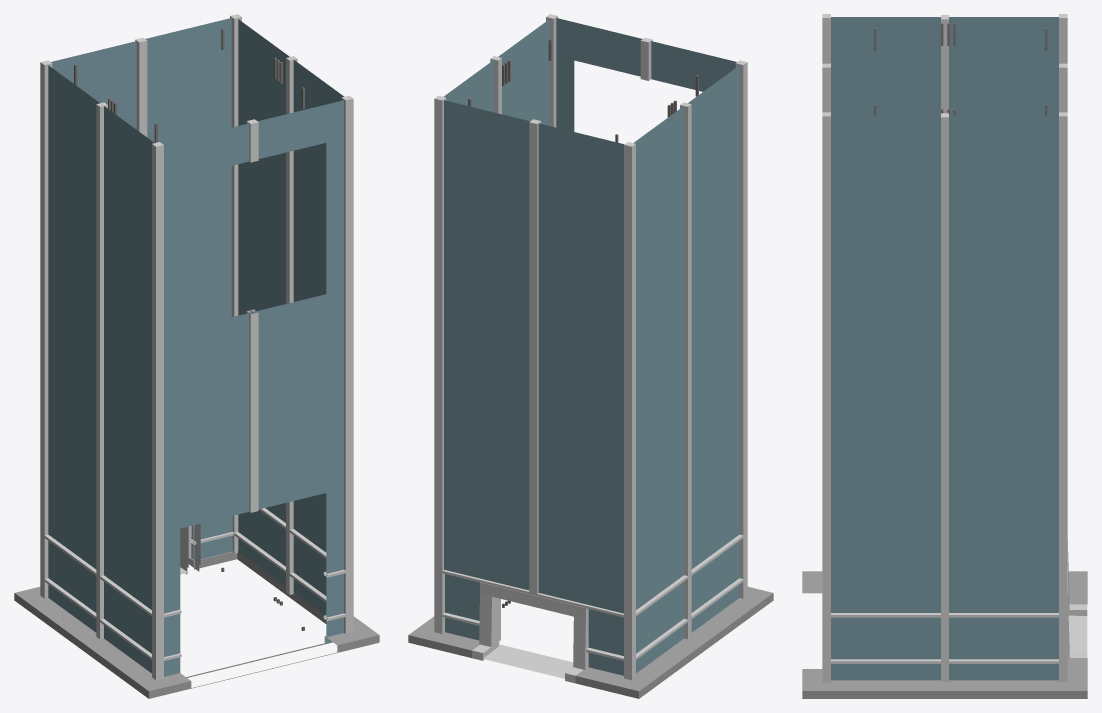
Rendered from lift-shaft-2-1.glb.
3 views of the same model, side by side, from view 1: azimuth 30°, elevation 25°; view 2: azimuth 150°, elevation 25°; view 3: azimuth 270°, elevation 25° (orthographic). The views are drawn at different scales.
Parts seen in each view (by area): view 1: BackUpWithMirror.001_Cube.004 / Glass, BackUpWithMirror.001_Cube.004 / Metal, BackUpWithMirror.001_Cube.004 / Beton, BackUpWithMirror.001_Cube.004 / BlackMetal; view 2: BackUpWithMirror.001_Cube.004 / Glass, BackUpWithMirror.001_Cube.004 / Metal, BackUpWithMirror.001_Cube.004 / Beton, BackUpWithMirror.001_Cube.004 / BlackMetal; view 3: BackUpWithMirror.001_Cube.004 / Glass, BackUpWithMirror.001_Cube.004 / Metal, BackUpWithMirror.001_Cube.004 / Beton, BackUpWithMirror.001_Cube.004 / BlackMetal.
Part boxes in pixels (left/top/right/bottom): BackUpWithMirror.001_Cube.004 / Glass: left=48, top=18, right=344, bottom=676; BackUpWithMirror.001_Cube.004 / Metal: left=40, top=14, right=353, bottom=680; BackUpWithMirror.001_Cube.004 / Beton: left=14, top=551, right=379, bottom=698; BackUpWithMirror.001_Cube.004 / BlackMetal: left=74, top=28, right=304, bottom=630; BackUpWithMirror.001_Cube.004 / Glass: left=443, top=18, right=739, bottom=675; BackUpWithMirror.001_Cube.004 / Metal: left=434, top=14, right=747, bottom=683; BackUpWithMirror.001_Cube.004 / Beton: left=408, top=586, right=773, bottom=698; BackUpWithMirror.001_Cube.004 / BlackMetal: left=468, top=39, right=698, bottom=607; BackUpWithMirror.001_Cube.004 / Glass: left=831, top=17, right=1058, bottom=680; BackUpWithMirror.001_Cube.004 / Metal: left=822, top=14, right=1087, bottom=682; BackUpWithMirror.001_Cube.004 / Beton: left=802, top=571, right=1087, bottom=698; BackUpWithMirror.001_Cube.004 / BlackMetal: left=874, top=23, right=1047, bottom=115.
Bounding box in the file's own units: 8.52 × 19.22 × 8.61.
